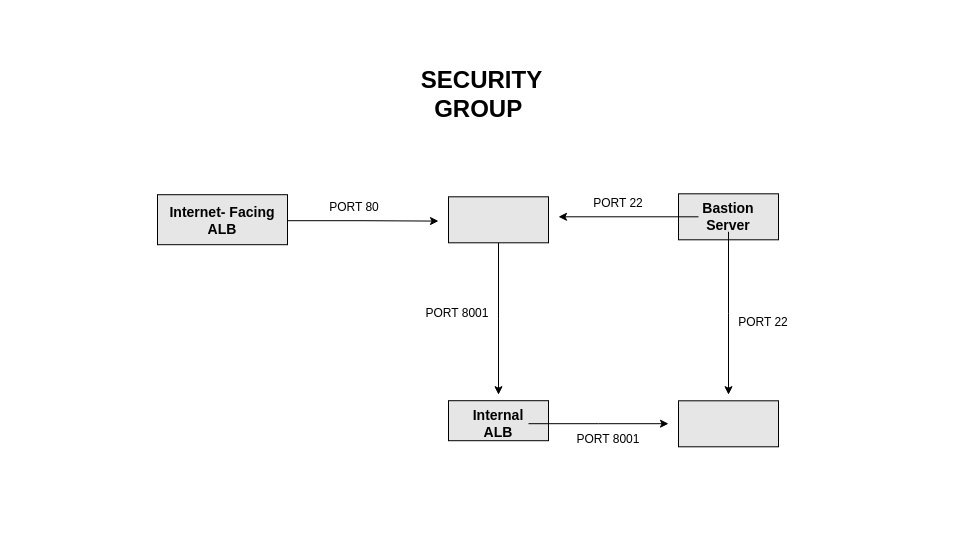
Some shapes in this 964 by 544 pixel diagram are drawn without their labels. Here are the shapes that lost their labels. From the top down, the box of each, then its label:
(448, 196, 548, 243): Frontend Server
(678, 400, 778, 447): Backend Server
